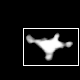plane: (5, 21, 80, 60)
